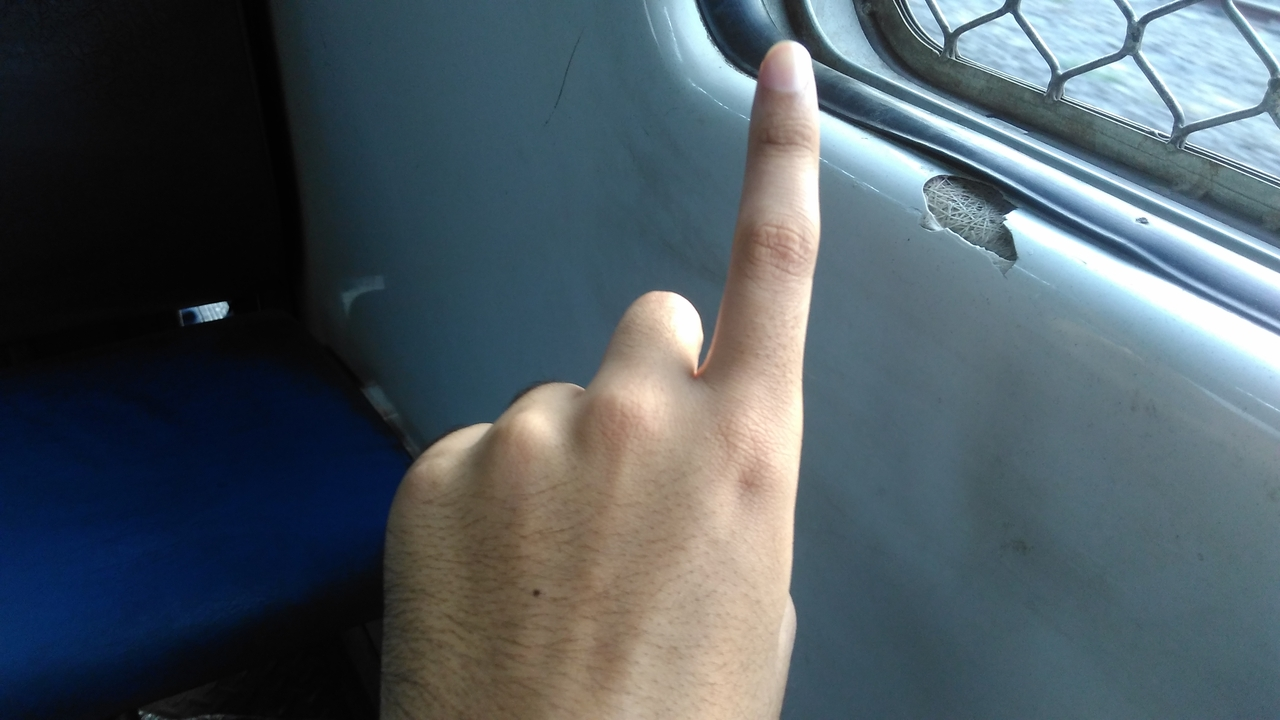fingertip: (760, 36, 822, 106)
